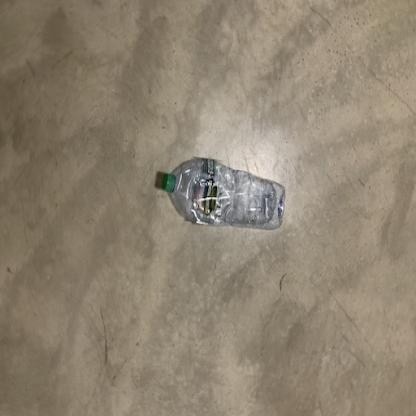trash: (158, 156, 287, 232)
